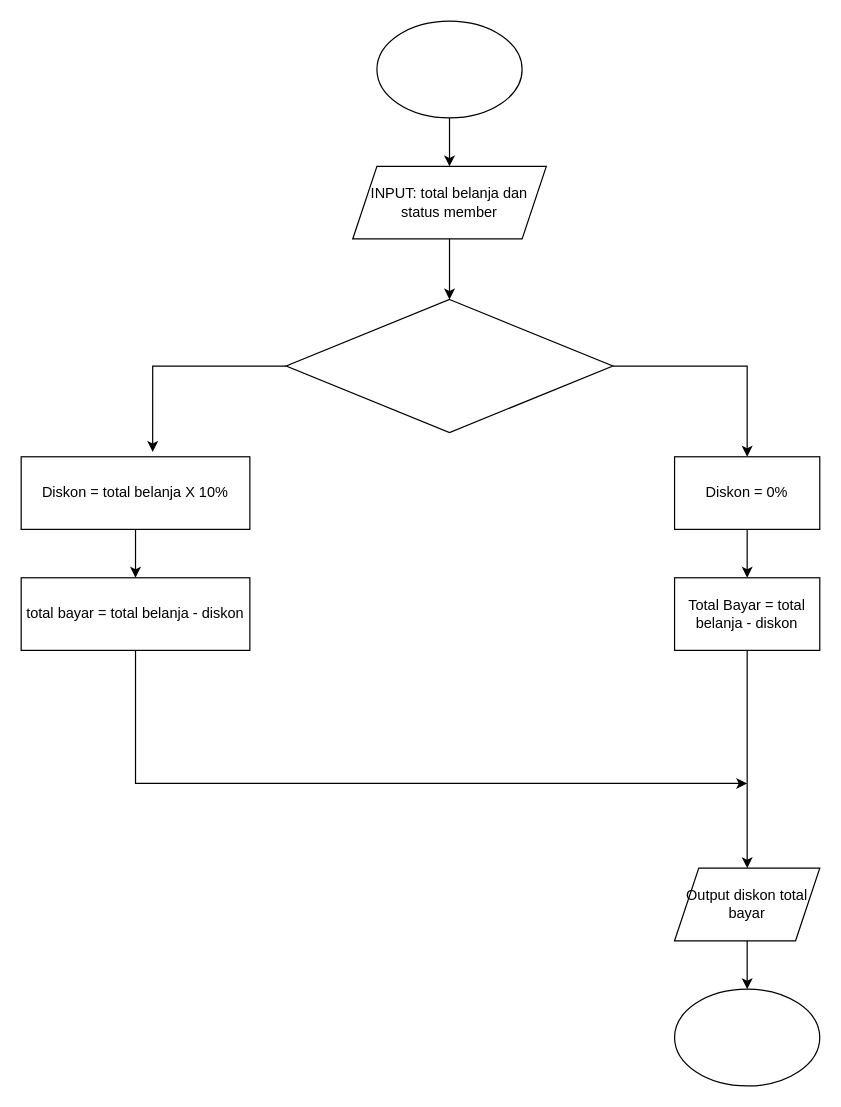
Some shapes in this 841 by 1107 pixel diagram are drawn without their labels. Each missing label, with the centre of its shape:
mulai: (x=449, y=69)
SELESAI: (x=746, y=1037)
total belanja > 500000 AND status member = "ya"?: (x=449, y=365)
